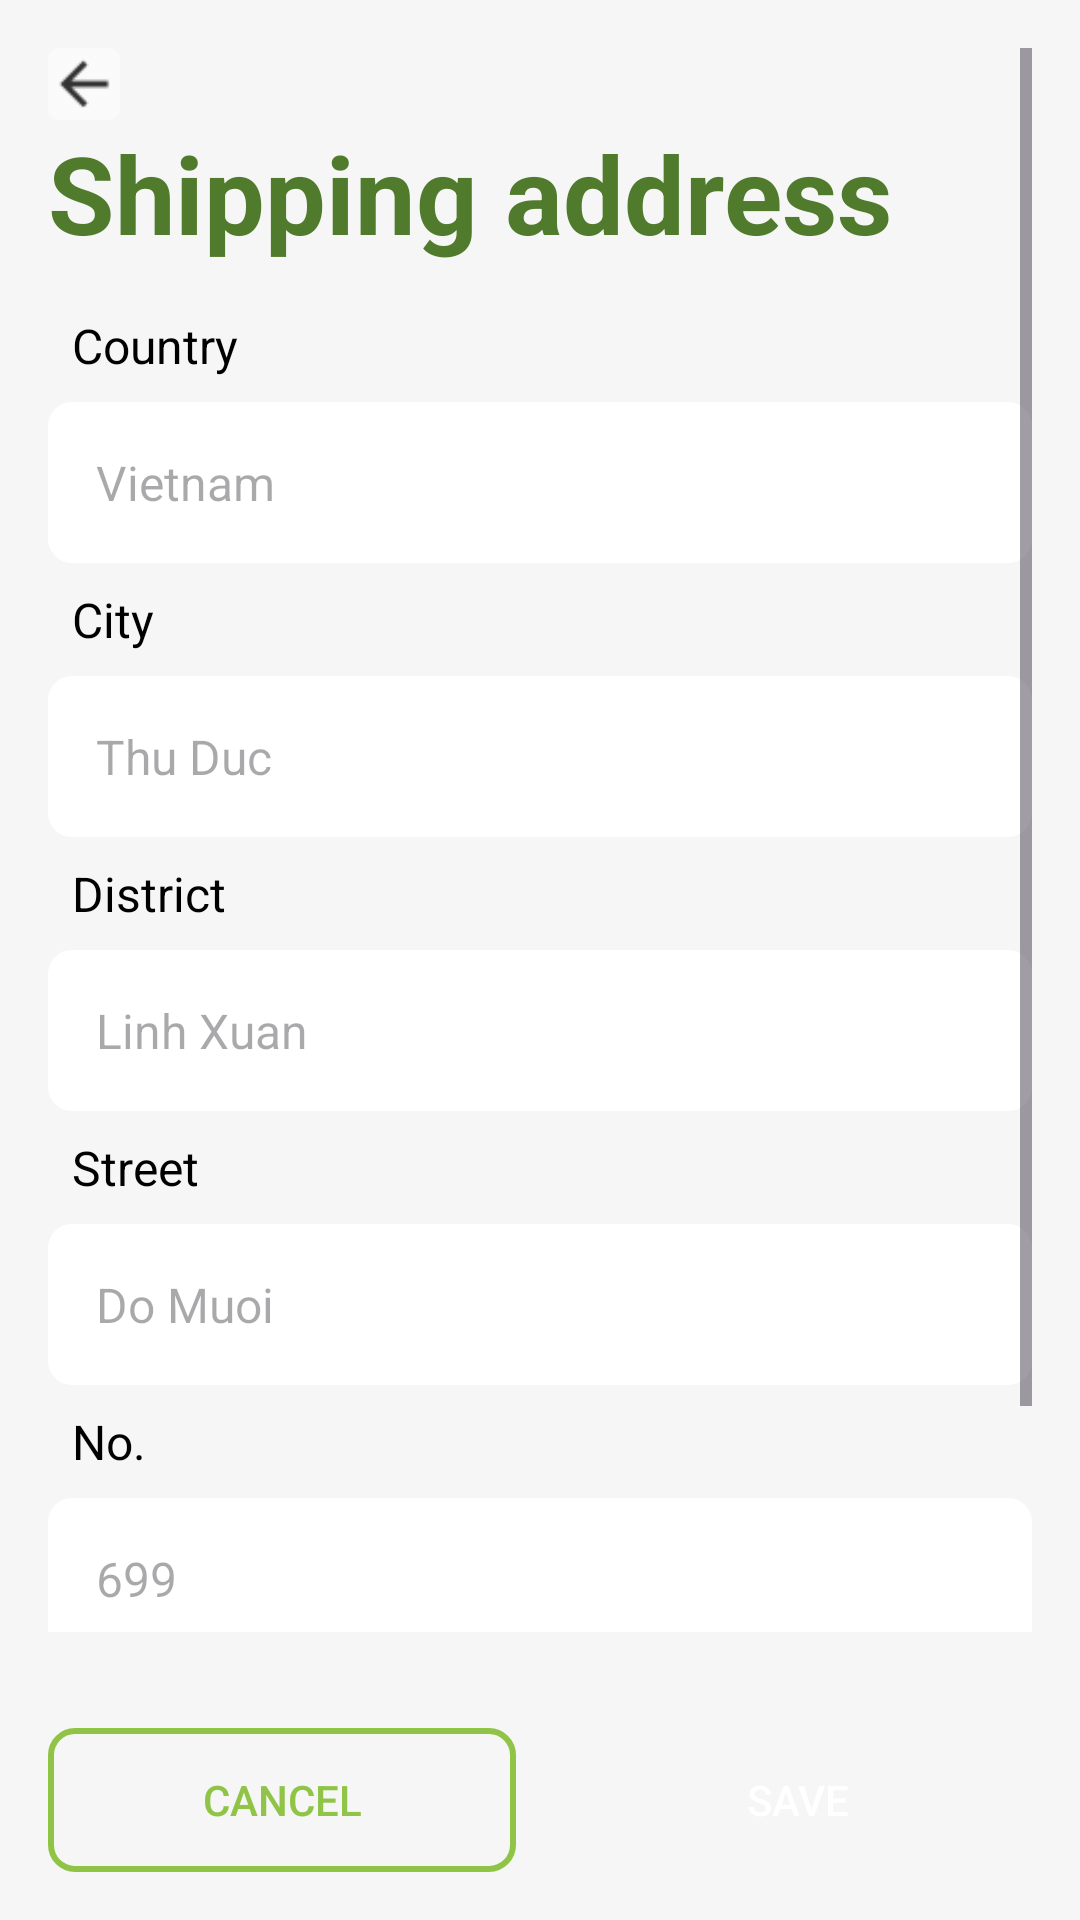

Icon bounding boxes for this 1080px×1920px phone screenshot, format (x1=x1, y1=y1, x2=x2, y2=y2):
Back: (x1=60, y1=60, x2=109, y2=107)
